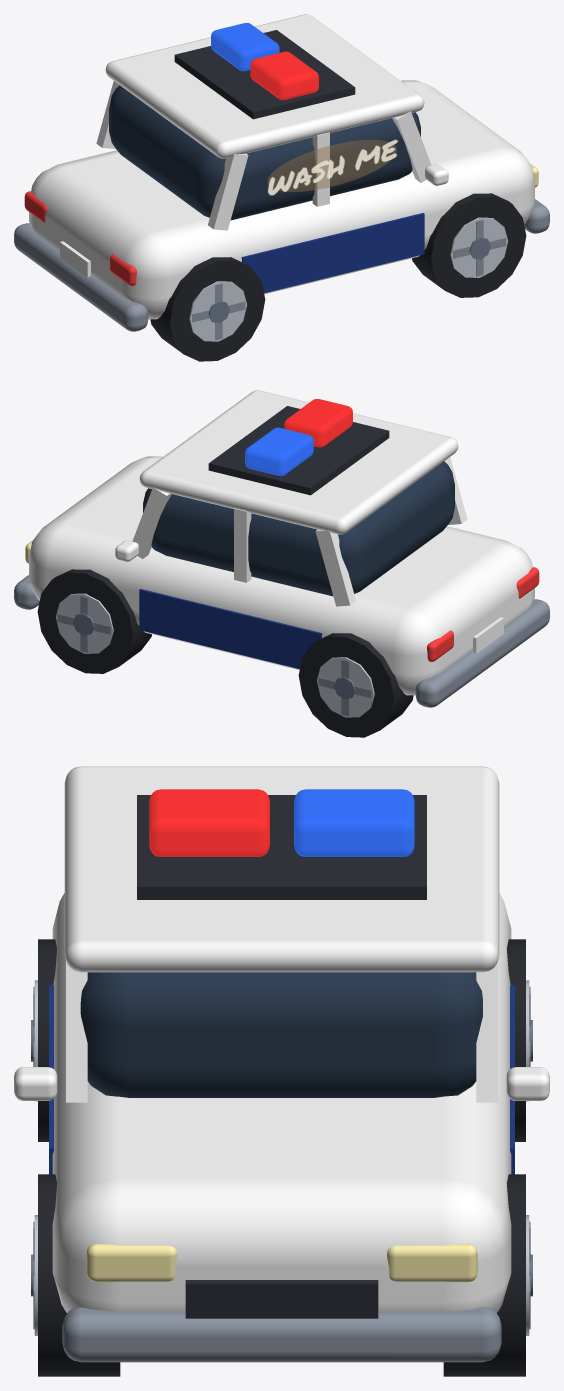
The model's file is car_police.glb.
3 renders of one model, top to bottom at view 1: azimuth 30°, elevation 25°; view 2: azimuth 150°, elevation 25°; view 3: azimuth 270°, elevation 25°, orthographic. The views are drawn at different scales.
Parts seen in each view (by area): view 1: Paint, Trim, Wheel1, Wheel0, WashMe, SirenRed, SirenBlue; view 2: Paint, Trim, Wheel3, Wheel2, SirenBlue, SirenRed; view 3: Paint, Trim, SirenRed, SirenBlue, Wheel0, Wheel2, Wheel1, Wheel3.
Part boxes in pixels (bbox=[...]): Paint: bbox=[29, 14, 534, 319]; Trim: bbox=[14, 30, 549, 331]; Wheel1: bbox=[150, 257, 265, 361]; Wheel0: bbox=[412, 193, 526, 297]; WashMe: bbox=[267, 139, 397, 195]; SirenRed: bbox=[250, 51, 318, 100]; SirenBlue: bbox=[211, 23, 279, 71]; Paint: bbox=[29, 390, 534, 695]; Trim: bbox=[14, 406, 549, 707]; Wheel3: bbox=[298, 633, 413, 737]; Wheel2: bbox=[37, 569, 151, 673]; SirenBlue: bbox=[245, 427, 313, 476]; SirenRed: bbox=[284, 399, 352, 447]; Paint: bbox=[14, 766, 549, 1312]; Trim: bbox=[49, 795, 514, 1362]; SirenRed: bbox=[149, 789, 269, 856]; SirenBlue: bbox=[294, 789, 414, 856]; Wheel0: bbox=[31, 1174, 120, 1376]; Wheel2: bbox=[443, 1174, 532, 1376]; Wheel1: bbox=[31, 939, 56, 1141]; Wheel3: bbox=[507, 939, 532, 1141].
Bounding box in the file's own units: 3.74 × 1.97 × 2.22.
9 materials, 1 textured.
